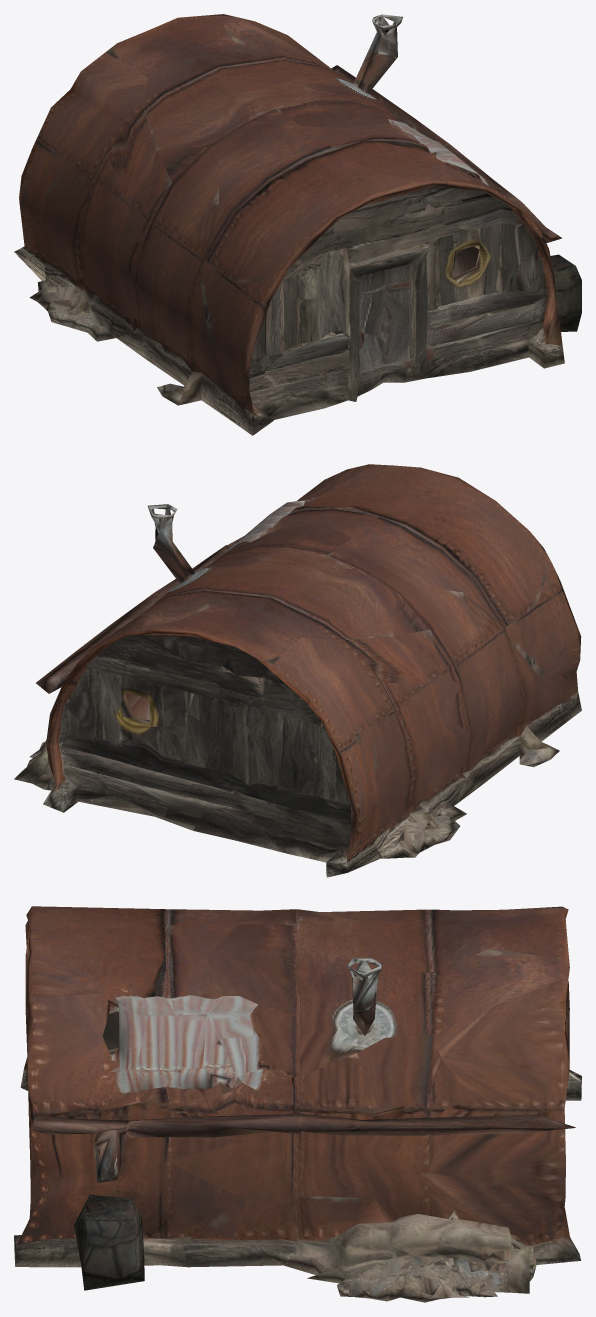
Rendered from shack_c.glb.
3 renders of one model, top to bottom at view 1: azimuth 30°, elevation 25°; view 2: azimuth 150°, elevation 25°; view 3: azimuth 270°, elevation 25°, orthographic. The views are drawn at different scales.
Visible parts, largest first — view 1: mesh_node; view 2: mesh_node; view 3: mesh_node.
Part boxes in pixels (box(x1,y1,x2,y2)): mesh_node: box(14, 14, 581, 435); mesh_node: box(14, 464, 581, 877); mesh_node: box(14, 906, 581, 1302).
Bounding box in the file's own units: 1.86 × 1.06 × 1.9.
Materials: 1 (1 with a texture image).
